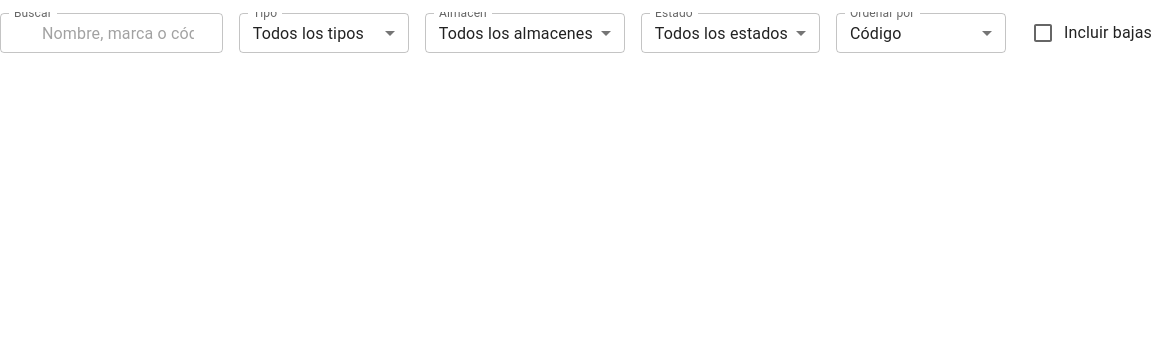
Test case: FiltrosInventario › ofrece las seis clasificaciones
Click the dropdown labelled "Todos los tipos".
click(308, 33)  # box [253,24,364,42]
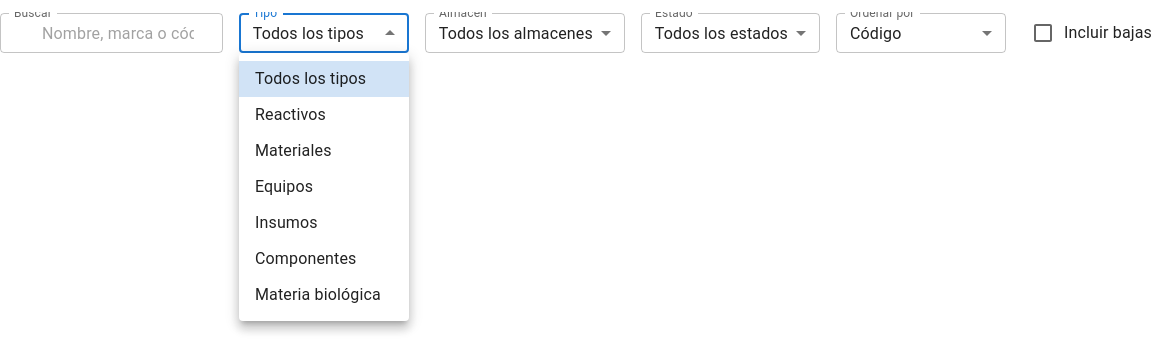
expect the option "Reactivos" is shown: met, box [255,105,326,124]
expect the option "Materiales" is shown: met, box [255,141,332,160]
expect the option "Equipos" is shown: met, box [255,177,313,196]
